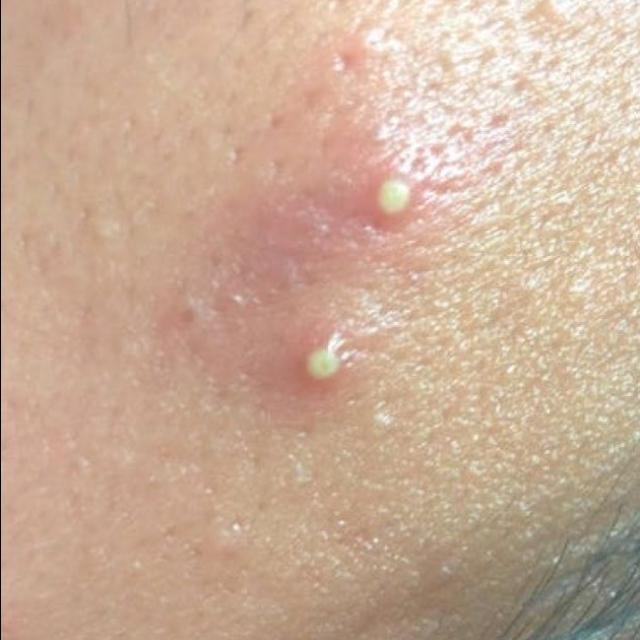pustule: (277, 123, 455, 390)
